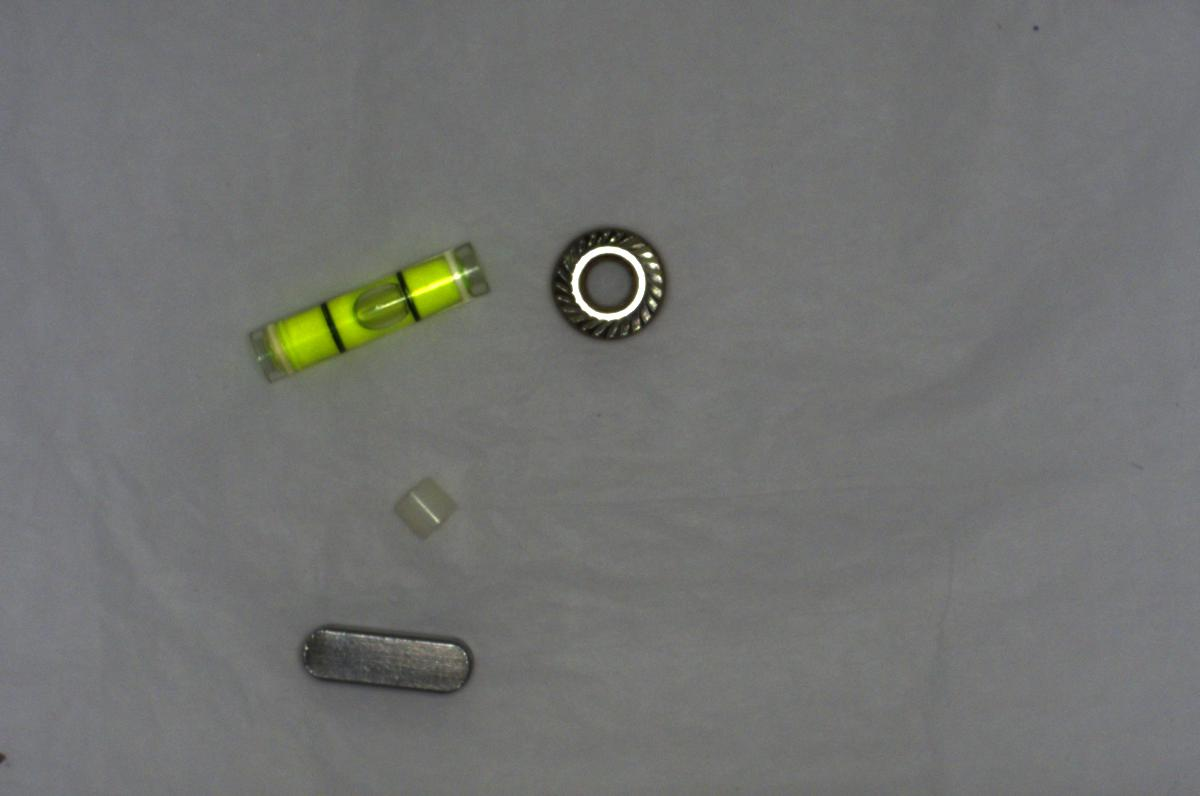Flange nut: (544, 215, 674, 345)
Horizontal bubble: (238, 235, 490, 382)
Keybar: (293, 621, 485, 698)
Plastic cushion pillar: (382, 470, 466, 545)
